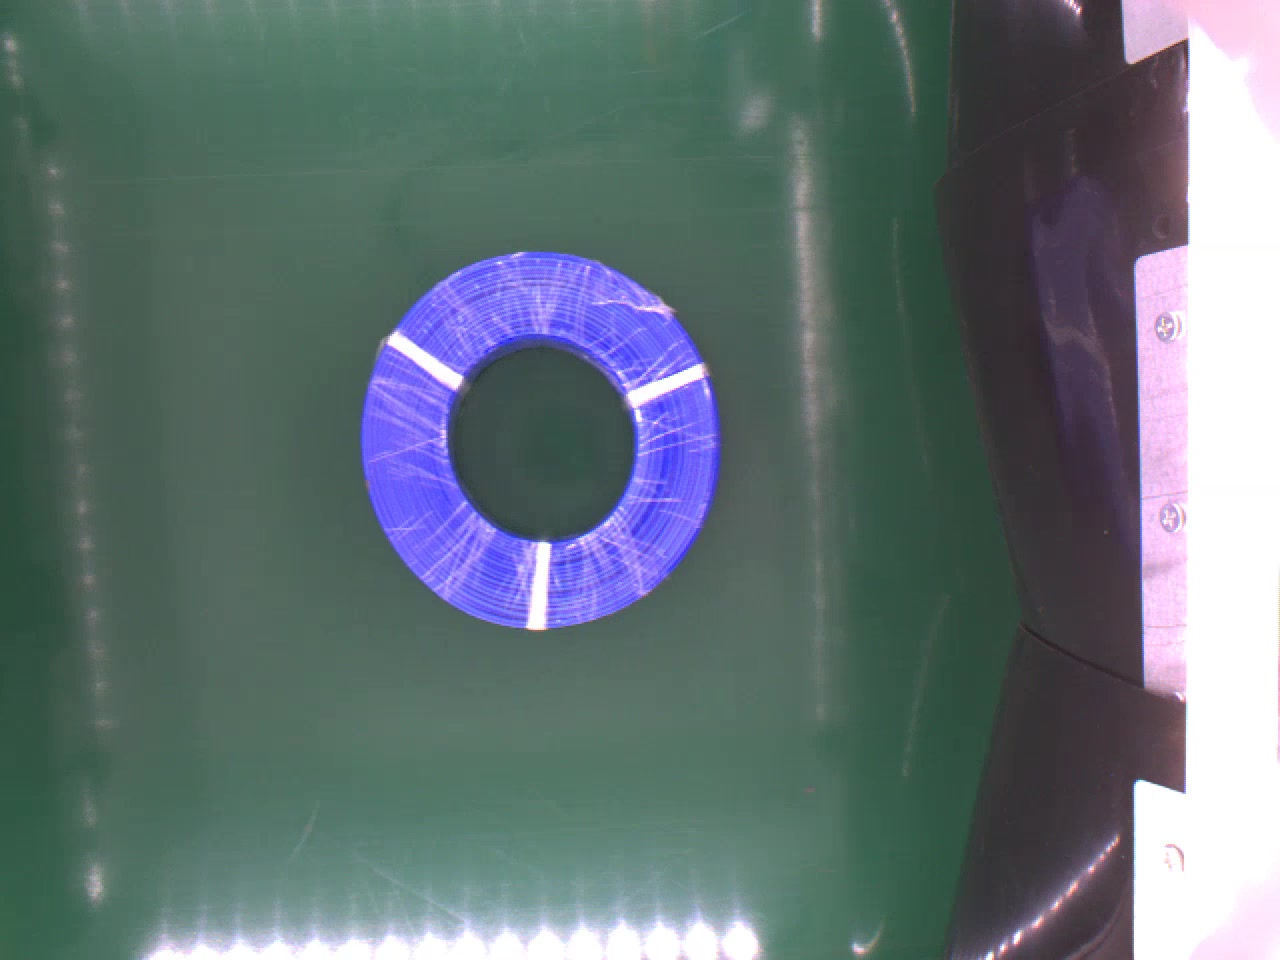blue: (341, 247, 725, 630)
